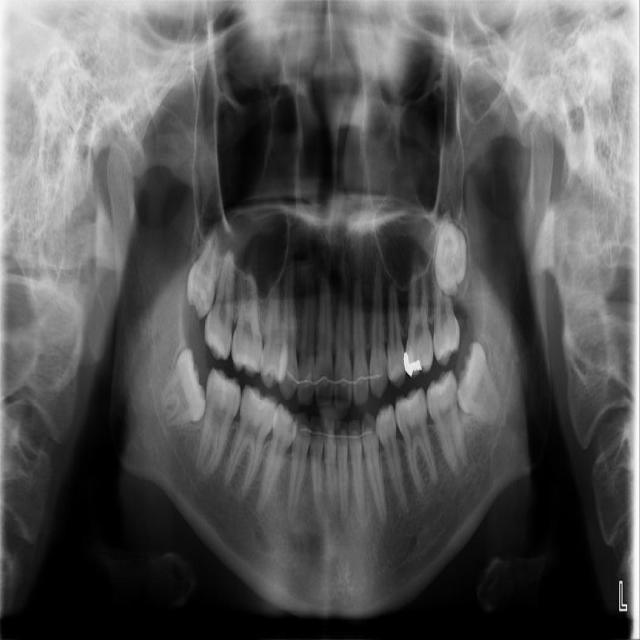Filling: (400, 349, 427, 377)
impacted tooth: (459, 342, 515, 426), (160, 345, 205, 425), (432, 201, 468, 291), (185, 224, 218, 320)
